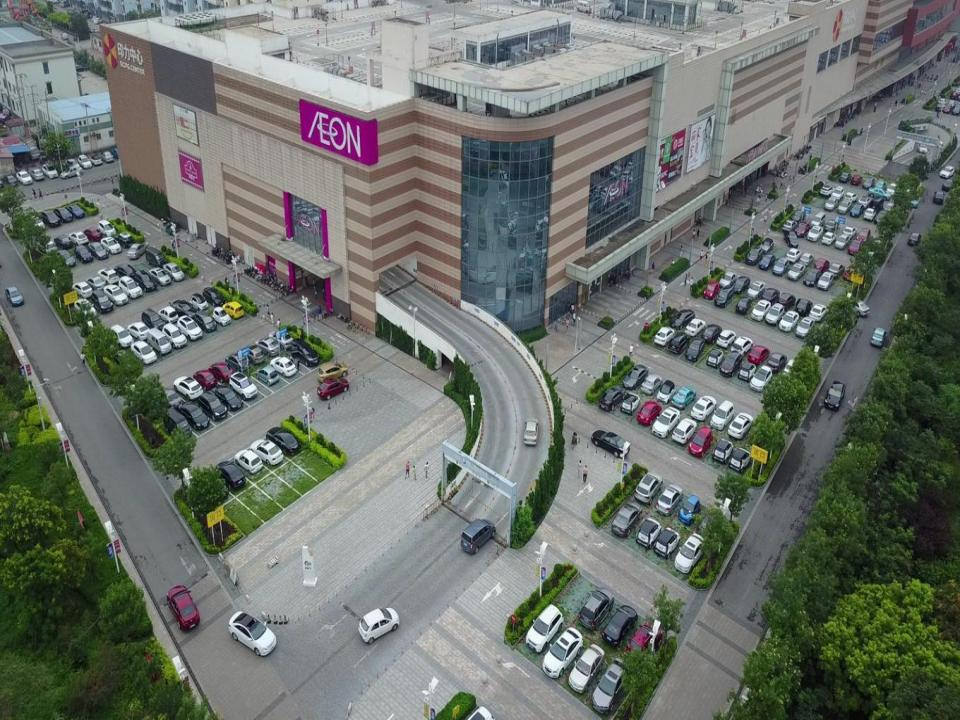car: (591, 656, 630, 714), (228, 610, 276, 656), (543, 626, 583, 678), (568, 643, 604, 693), (526, 604, 563, 652), (578, 586, 615, 630), (602, 604, 638, 647), (166, 586, 199, 632), (626, 619, 662, 661), (359, 607, 398, 643), (674, 533, 705, 573), (611, 500, 642, 536), (590, 429, 629, 457), (266, 426, 301, 455), (635, 470, 662, 505), (178, 401, 209, 430), (652, 406, 680, 438), (216, 460, 245, 490), (198, 390, 227, 420), (656, 483, 682, 516), (250, 439, 283, 465), (230, 371, 258, 401), (654, 527, 680, 558), (696, 509, 719, 544), (688, 426, 712, 459), (291, 339, 319, 367), (635, 518, 661, 548), (212, 385, 243, 410), (728, 412, 754, 441), (173, 376, 203, 401), (317, 376, 349, 399), (235, 449, 264, 474), (678, 494, 701, 525), (622, 363, 648, 390), (154, 387, 182, 412), (317, 361, 348, 383), (690, 395, 716, 421), (672, 417, 697, 444), (824, 380, 845, 412), (719, 350, 742, 378), (727, 447, 751, 473), (598, 387, 625, 410), (130, 341, 157, 364), (750, 364, 772, 392), (671, 385, 696, 409), (636, 400, 661, 424), (110, 324, 134, 349), (841, 297, 869, 317), (90, 289, 113, 313), (712, 438, 734, 463), (225, 351, 250, 373), (668, 330, 690, 354), (208, 361, 232, 383), (192, 369, 216, 391), (172, 299, 196, 321), (118, 276, 142, 298), (104, 284, 128, 306), (73, 298, 97, 320), (656, 378, 676, 404), (270, 357, 296, 377), (256, 364, 279, 386), (134, 269, 157, 291), (671, 308, 695, 329), (255, 336, 279, 357), (684, 337, 704, 362), (268, 330, 293, 350), (730, 335, 752, 356), (641, 373, 663, 394), (127, 322, 150, 342), (701, 323, 722, 344), (195, 310, 216, 331), (748, 345, 770, 365), (767, 351, 787, 373), (620, 392, 640, 414), (243, 346, 265, 366), (163, 260, 185, 280), (148, 267, 171, 286), (685, 317, 706, 337), (55, 248, 76, 268), (202, 286, 224, 305), (654, 326, 674, 346), (716, 328, 736, 348), (867, 186, 891, 202), (5, 287, 24, 307), (212, 306, 231, 326), (98, 267, 118, 286), (222, 301, 244, 318), (74, 243, 93, 262), (787, 261, 805, 281), (816, 271, 834, 291), (737, 362, 755, 382), (73, 282, 93, 300), (89, 241, 109, 259), (706, 347, 723, 368), (84, 275, 105, 292), (784, 360, 800, 382), (114, 264, 136, 280), (803, 267, 821, 286), (189, 292, 208, 310), (772, 257, 789, 277), (101, 237, 121, 254), (127, 242, 148, 258), (98, 220, 117, 237), (38, 238, 57, 255), (41, 210, 60, 227), (60, 165, 83, 179), (871, 326, 886, 347), (82, 227, 103, 242), (746, 246, 763, 264), (759, 253, 776, 270), (758, 236, 774, 254), (54, 234, 72, 250), (834, 233, 850, 250), (116, 231, 132, 248), (67, 204, 85, 219), (796, 219, 810, 238), (69, 230, 88, 244), (828, 262, 844, 278), (807, 225, 822, 242), (784, 229, 799, 246), (28, 216, 45, 231), (897, 196, 918, 208), (850, 200, 864, 218), (54, 208, 72, 222), (847, 239, 862, 255), (786, 248, 801, 264), (814, 258, 830, 273), (17, 170, 32, 186), (791, 209, 806, 224), (824, 196, 838, 212), (782, 218, 798, 232), (42, 164, 58, 178), (42, 163, 58, 177), (823, 219, 840, 232), (908, 231, 922, 246), (819, 184, 834, 198), (857, 228, 870, 244), (78, 154, 91, 170), (844, 266, 858, 280), (838, 199, 851, 214), (799, 253, 814, 266), (942, 177, 954, 193), (875, 180, 887, 196), (845, 190, 858, 204), (863, 207, 876, 221), (842, 225, 856, 238), (822, 231, 836, 244), (939, 166, 954, 178), (886, 182, 898, 197), (832, 185, 844, 200), (875, 210, 888, 223), (884, 202, 897, 215), (858, 196, 872, 208), (66, 158, 80, 170), (30, 169, 44, 181), (933, 191, 945, 204), (100, 151, 114, 162), (850, 174, 862, 186), (863, 176, 875, 188), (3, 175, 16, 186), (839, 172, 851, 183), (112, 148, 125, 158), (89, 155, 102, 165), (917, 141, 927, 153), (943, 104, 952, 115), (950, 89, 958, 101), (947, 100, 956, 109), (936, 103, 944, 111), (938, 99, 947, 106)
truck: (28, 146, 40, 160)
van: (460, 517, 496, 553), (164, 408, 191, 442), (710, 400, 734, 431), (147, 328, 172, 356), (145, 247, 166, 267), (810, 212, 826, 229), (870, 195, 884, 214)
